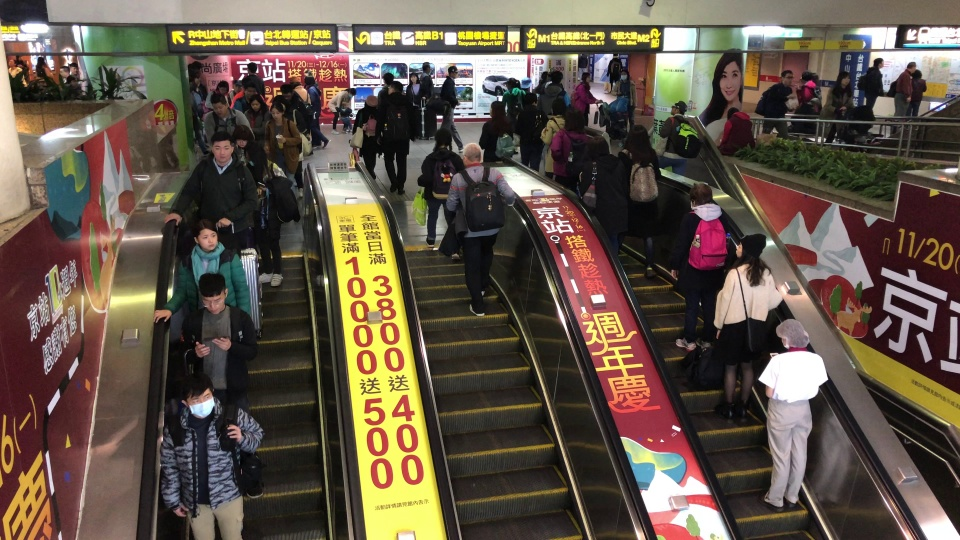person_head: (182, 371, 215, 419), (198, 271, 228, 317), (774, 318, 810, 349), (734, 232, 767, 263), (193, 217, 219, 252), (623, 124, 651, 153), (210, 131, 233, 162), (688, 182, 713, 210), (243, 141, 267, 167), (231, 123, 255, 148), (563, 106, 586, 131), (431, 127, 453, 151), (461, 142, 482, 167), (209, 92, 228, 118), (587, 135, 609, 156), (488, 100, 506, 120), (271, 93, 288, 113), (668, 100, 688, 116), (550, 97, 566, 117), (363, 94, 379, 111), (244, 81, 257, 101), (522, 92, 538, 108), (387, 80, 404, 95), (270, 102, 284, 120), (248, 94, 262, 112), (836, 71, 851, 87), (505, 76, 520, 91), (780, 69, 794, 85), (288, 74, 302, 90), (216, 79, 229, 96), (807, 97, 822, 111), (447, 65, 462, 79), (280, 82, 293, 98), (871, 56, 885, 70), (726, 106, 740, 120), (550, 69, 563, 84), (241, 77, 252, 94), (245, 62, 258, 76), (520, 76, 532, 90), (304, 74, 315, 89), (231, 78, 242, 93), (905, 61, 917, 74), (408, 71, 420, 84), (382, 72, 394, 85), (65, 75, 78, 87), (58, 65, 70, 77), (303, 69, 313, 83), (619, 68, 630, 80), (580, 71, 590, 84), (421, 61, 431, 74), (801, 70, 812, 81), (35, 56, 46, 67), (69, 62, 79, 74), (811, 72, 820, 85), (540, 70, 549, 83), (911, 69, 922, 79), (346, 87, 357, 97), (8, 58, 17, 67), (341, 100, 349, 108), (611, 53, 618, 58)
person_vbox: (179, 271, 264, 500), (159, 371, 266, 540), (755, 318, 829, 513), (711, 232, 783, 421), (445, 142, 515, 317), (163, 131, 257, 252), (152, 217, 250, 325), (669, 182, 727, 352), (616, 123, 662, 279), (243, 140, 290, 288), (574, 135, 629, 259), (420, 127, 465, 260), (374, 80, 416, 196), (270, 93, 307, 199), (550, 106, 590, 192), (263, 102, 302, 190), (203, 92, 257, 150), (654, 99, 690, 175), (351, 94, 382, 182), (514, 92, 548, 172), (817, 70, 853, 144), (761, 69, 798, 141), (439, 65, 467, 154), (539, 97, 569, 179), (478, 100, 515, 164), (287, 74, 314, 157), (303, 72, 331, 149), (888, 60, 917, 134), (501, 76, 526, 156), (717, 106, 755, 156), (573, 71, 604, 128), (377, 72, 396, 161), (326, 86, 357, 136), (279, 83, 310, 133), (302, 69, 322, 146), (614, 68, 638, 132), (538, 69, 570, 117), (189, 80, 209, 155), (242, 93, 271, 141), (789, 97, 822, 135), (862, 56, 885, 108), (904, 68, 926, 121), (229, 77, 265, 109), (231, 81, 264, 114), (230, 123, 256, 162), (239, 62, 266, 95), (205, 79, 232, 111), (606, 52, 623, 94), (795, 70, 815, 105), (419, 61, 436, 102), (6, 58, 28, 87), (34, 56, 55, 86), (405, 71, 422, 107), (339, 100, 354, 134), (532, 70, 548, 95), (228, 78, 241, 103), (810, 71, 821, 98), (578, 53, 588, 80)
